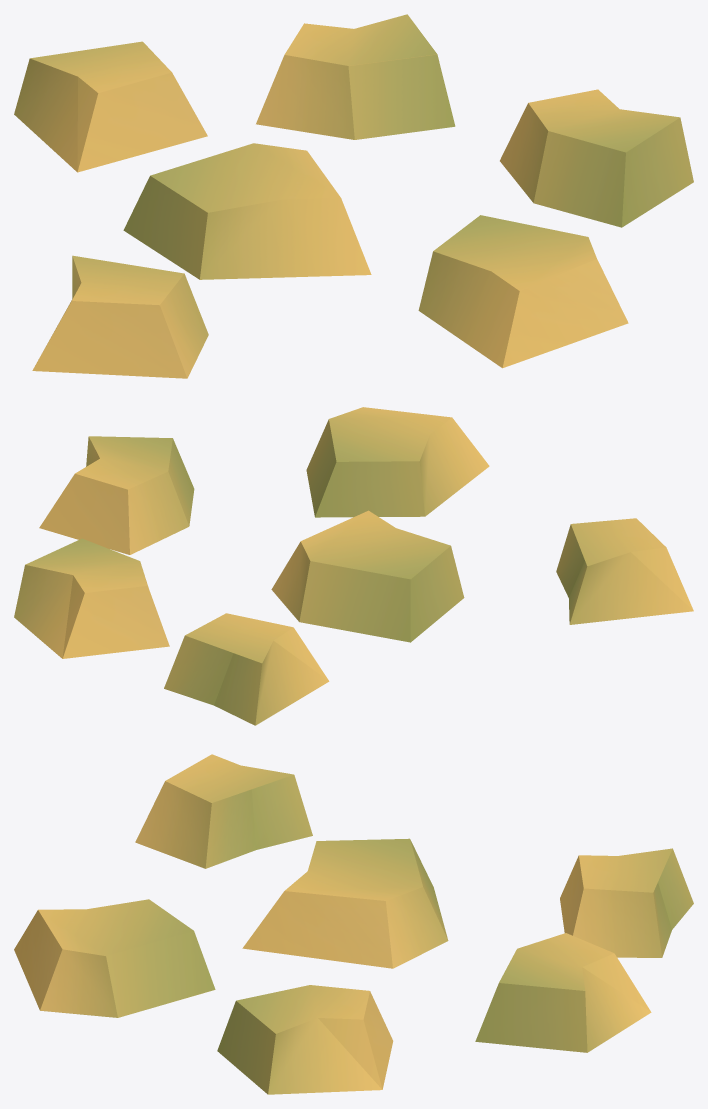
File: SM_APP_Gas_Rock_smallpile.glb
The picture shows the model from 3 angles, top to bottom: view 1: azimuth 30°, elevation 25°; view 2: azimuth 150°, elevation 25°; view 3: azimuth 270°, elevation 25°; orthographic projection. The views are drawn at different scales.
Parts seen in each view (by area): view 1: SM_APP_Gas_Rock_smallpile; view 2: SM_APP_Gas_Rock_smallpile; view 3: SM_APP_Gas_Rock_smallpile.
Part boxes in pixels (x1,y1,x2,y2): SM_APP_Gas_Rock_smallpile: (14, 14, 693, 378); SM_APP_Gas_Rock_smallpile: (14, 407, 693, 725); SM_APP_Gas_Rock_smallpile: (14, 754, 693, 1094).
Size of the model in its own units: 2.16 by 0.1907 by 2.07.
Materials: 1 (1 with a texture image).
